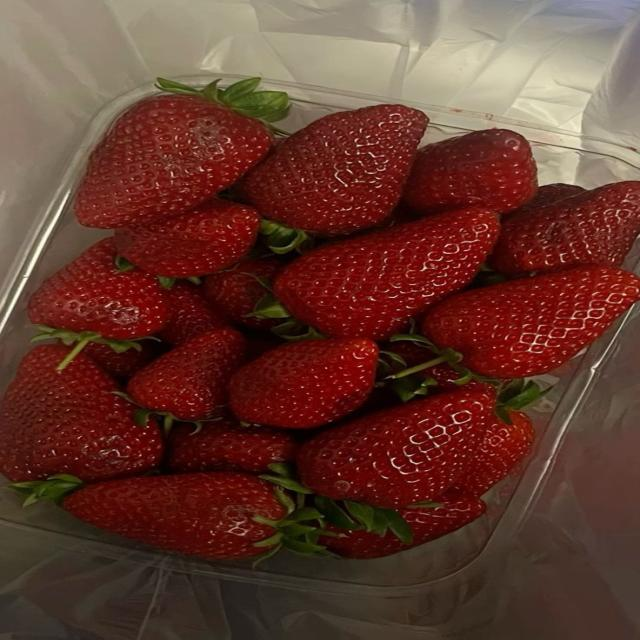strawberry: (75, 79, 286, 228), (275, 208, 499, 340), (422, 267, 639, 379), (242, 105, 427, 236), (297, 389, 494, 508), (0, 345, 162, 481), (63, 472, 286, 558), (28, 238, 168, 342), (490, 182, 639, 275), (231, 339, 378, 428), (321, 489, 486, 559), (403, 129, 537, 214), (114, 199, 259, 277), (127, 328, 245, 420), (456, 410, 534, 496), (166, 421, 297, 472), (203, 257, 284, 329), (157, 281, 228, 344), (84, 340, 166, 379), (509, 183, 586, 214), (246, 333, 283, 361)
